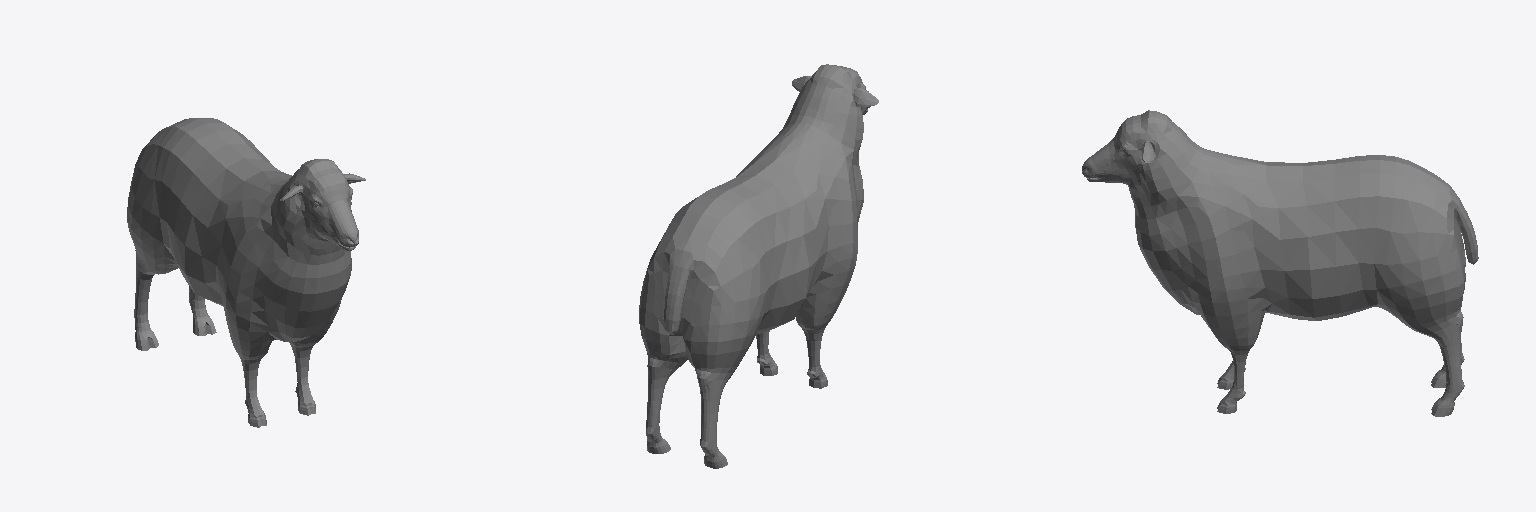
The model's file is sheep.obj.
The picture shows the model from 3 angles: view 1: azimuth 30°, elevation 25°; view 2: azimuth 150°, elevation 25°; view 3: azimuth 270°, elevation 25°; orthographic projection.
Visible parts, largest first — view 1: Sheep; view 2: Sheep; view 3: Sheep.
Part boxes in pixels (x1,y1,x2,y2): Sheep: (127, 118, 365, 427); Sheep: (639, 64, 878, 468); Sheep: (1082, 110, 1478, 416).
Bounding box in the file's own units: 1.31 × 3.12 × 3.94.